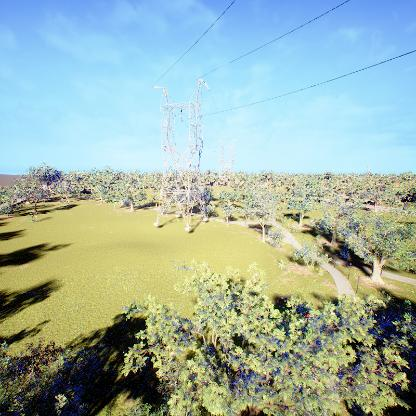tower: (150, 78, 213, 231)
